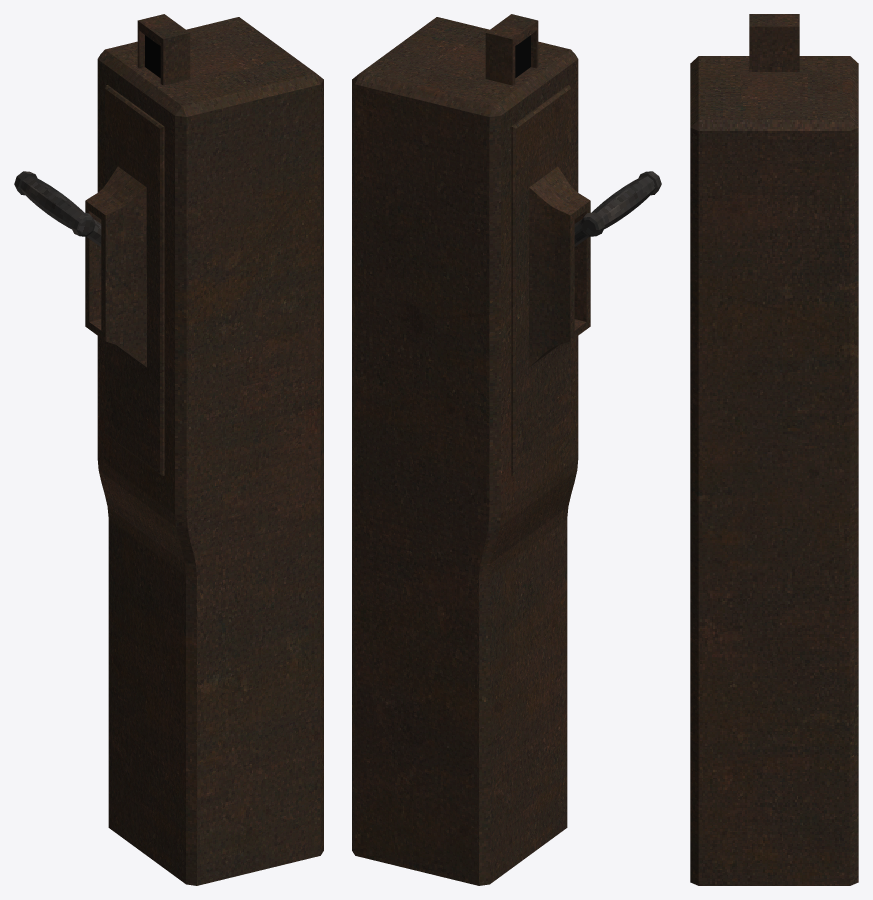
Rendered from LeverGutentagPosition.glb.
3 views of the same model, side by side, from view 1: azimuth 30°, elevation 25°; view 2: azimuth 150°, elevation 25°; view 3: azimuth 270°, elevation 25° (orthographic). The views are drawn at different scales.
Parts seen in each view (by area): view 1: Lever_Box, Lever_Box.001, Handle; view 2: Lever_Box, Lever_Box.001, Handle; view 3: Lever_Box, Lever_Box.001.
Boxes of the visible parts, box(x1,y1,x2,y2) form: Lever_Box: box(85, 17, 323, 885); Lever_Box.001: box(137, 14, 190, 85); Handle: box(14, 171, 101, 246); Lever_Box: box(352, 17, 590, 885); Lever_Box.001: box(485, 14, 538, 85); Handle: box(574, 171, 661, 246); Lever_Box: box(690, 56, 858, 885); Lever_Box.001: box(749, 14, 799, 71).
Size of the model in its own units: 0.8538 by 2.8 by 0.528.
4 materials, 3 textured.
